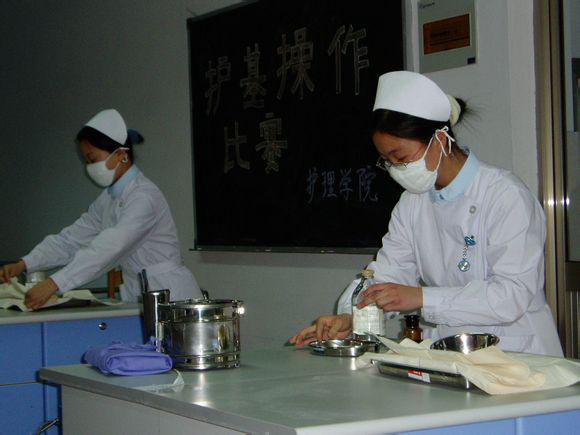OK: (379, 127, 446, 194), (85, 148, 129, 190)
